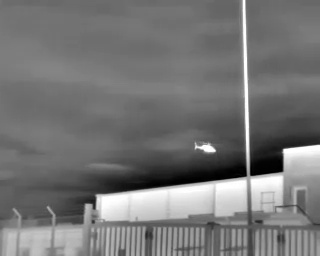HELICOPTER: (191, 136, 222, 160)
